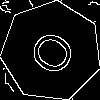O: (26, 26, 87, 85)
